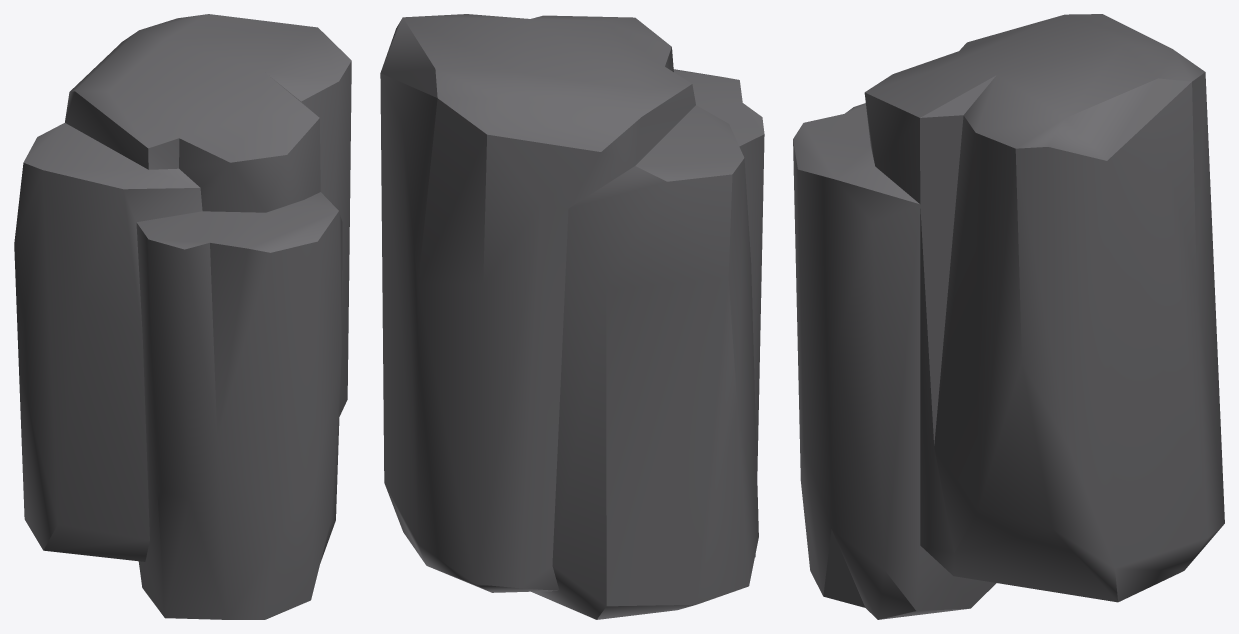
File: Stone_17.fbx
3 renders of one model, left to right at view 1: azimuth 30°, elevation 25°; view 2: azimuth 150°, elevation 25°; view 3: azimuth 270°, elevation 25°, orthographic. The views are drawn at different scales.
Parts seen in each view (by area): view 1: Stone_17; view 2: Stone_17; view 3: Stone_17.
Boxes of the visible parts, box(x1,y1,x2,y2) form: Stone_17: box(14, 14, 351, 619); Stone_17: box(380, 14, 764, 619); Stone_17: box(793, 14, 1224, 619).
Size of the model in its own units: 245 by 360 by 256.
